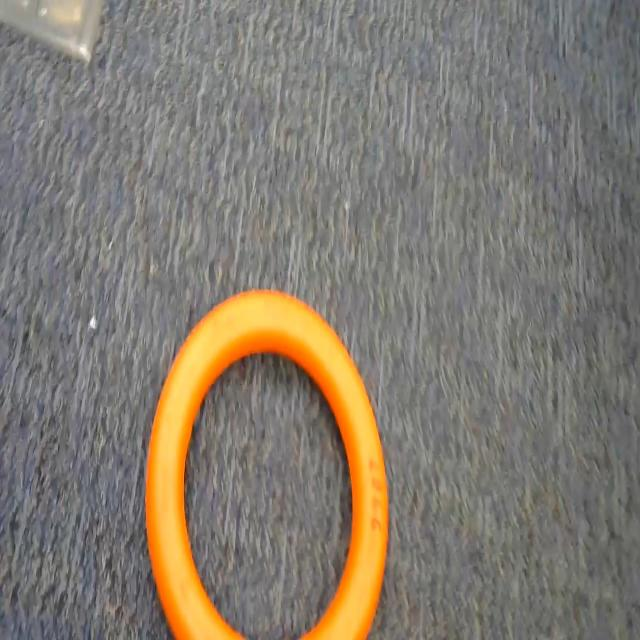note: (150, 277, 420, 640)
